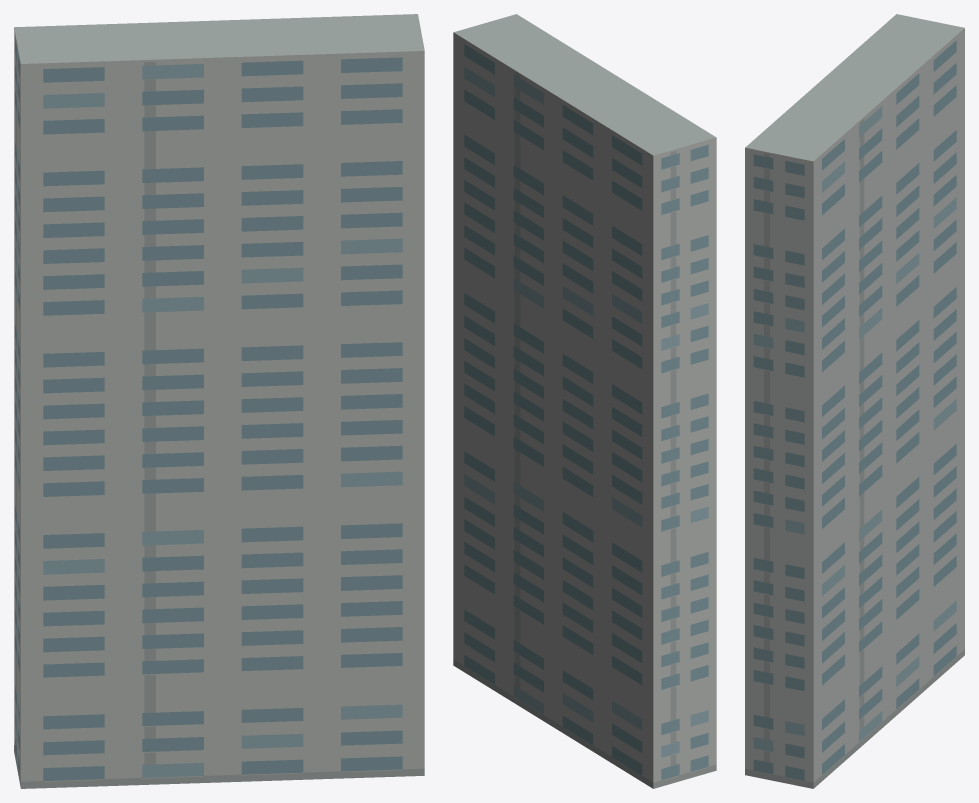
File: residential-4b549cee-6fd8-428a-959e-353a9c774f87.glb
3 views of the same model, side by side, from view 1: azimuth 30°, elevation 25°; view 2: azimuth 150°, elevation 25°; view 3: azimuth 270°, elevation 25° (orthographic). The views are drawn at different scales.
Visible parts, largest first — view 1: residential-4b549cee-6fd8-428a-959e-353a9c774f87.tmp; view 2: residential-4b549cee-6fd8-428a-959e-353a9c774f87.tmp; view 3: residential-4b549cee-6fd8-428a-959e-353a9c774f87.tmp.
Part boxes in pixels (box(x1,y1,x2,y2)): residential-4b549cee-6fd8-428a-959e-353a9c774f87.tmp: box(14, 14, 424, 788); residential-4b549cee-6fd8-428a-959e-353a9c774f87.tmp: box(453, 14, 716, 788); residential-4b549cee-6fd8-428a-959e-353a9c774f87.tmp: box(745, 14, 964, 788).
Size of the model in its own units: 41.33 by 82 by 26.05.
